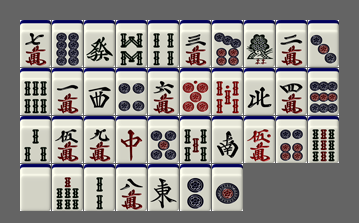0m: (244, 116, 275, 163)
0p: (180, 68, 211, 115)
0s: (212, 68, 243, 115)
1m: (52, 68, 83, 115)
1p: (212, 164, 243, 211)
1s: (244, 20, 275, 67)
1z: (148, 164, 179, 211)
2m: (276, 20, 307, 67)
2p: (180, 164, 211, 211)
2s: (84, 164, 115, 211)
2z: (212, 116, 243, 163)
3m: (180, 20, 211, 67)
3p: (308, 20, 339, 67)
3s: (20, 116, 51, 163)
3z: (84, 68, 115, 115)
4m: (276, 68, 307, 115)
4p: (116, 68, 147, 115)
4s: (148, 20, 179, 67)
4z: (244, 68, 275, 115)
5m: (52, 116, 83, 163)
5p: (148, 116, 179, 163)
5s: (180, 116, 211, 163)
5z: (20, 164, 51, 211)
6m: (148, 68, 179, 115)
6p: (276, 116, 307, 163)
6s: (20, 68, 51, 115)
6z: (84, 20, 115, 67)
7m: (20, 20, 51, 67)
7p: (212, 20, 243, 67)
7s: (52, 164, 83, 211)
7z: (116, 116, 147, 163)
8m: (116, 164, 147, 211)
8p: (52, 20, 83, 67)
8s: (116, 20, 147, 67)
9m: (84, 116, 115, 163)
9p: (308, 68, 339, 115)
9s: (308, 116, 339, 163)
